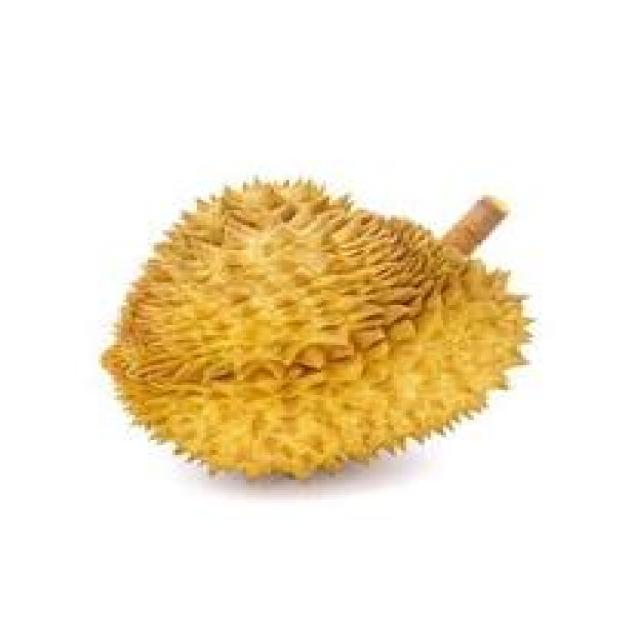fruit: (74, 150, 474, 555)
